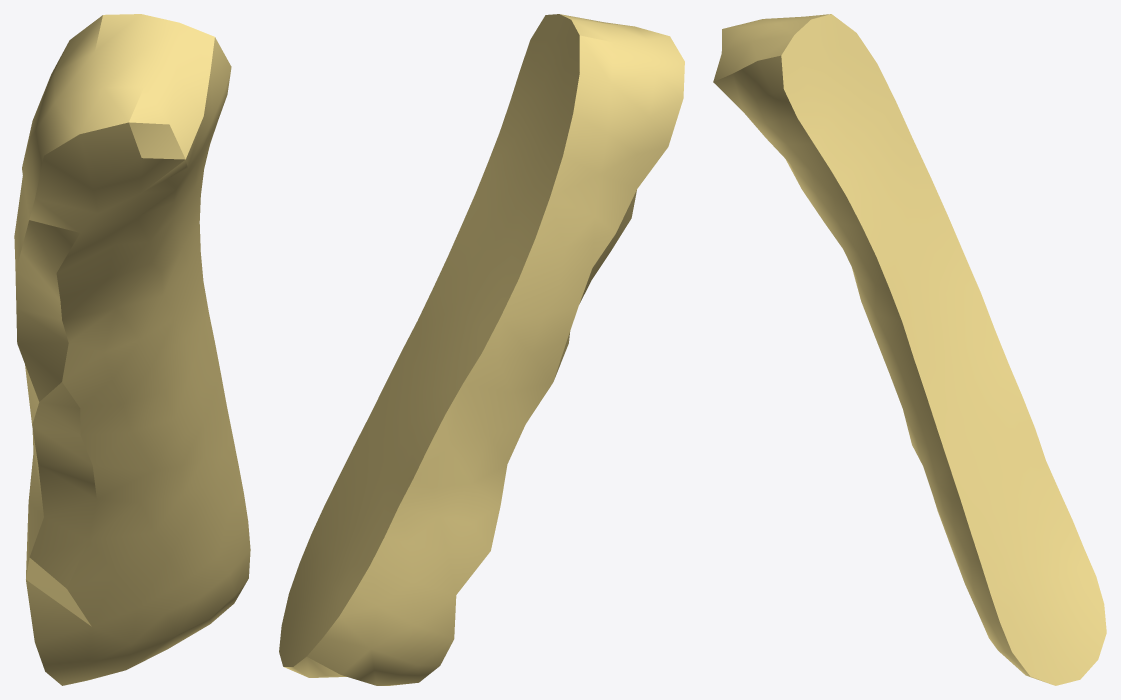
File: fma77220-l_mm3592.glb
3 renders of one model, left to right at view 1: azimuth 30°, elevation 25°; view 2: azimuth 150°, elevation 25°; view 3: azimuth 270°, elevation 25°, orthographic. The views are drawn at different scales.
Parts seen in each view (by area): view 1: FMA77220-L_MM3592; view 2: FMA77220-L_MM3592; view 3: FMA77220-L_MM3592.
Boxes of the visible parts, x1,y1,x2,y2 form: FMA77220-L_MM3592: [14, 14, 250, 685]; FMA77220-L_MM3592: [279, 14, 684, 685]; FMA77220-L_MM3592: [713, 14, 1106, 685].
Bounding box in the file's own units: 0.00159 × 0.00334 × 0.00198.
